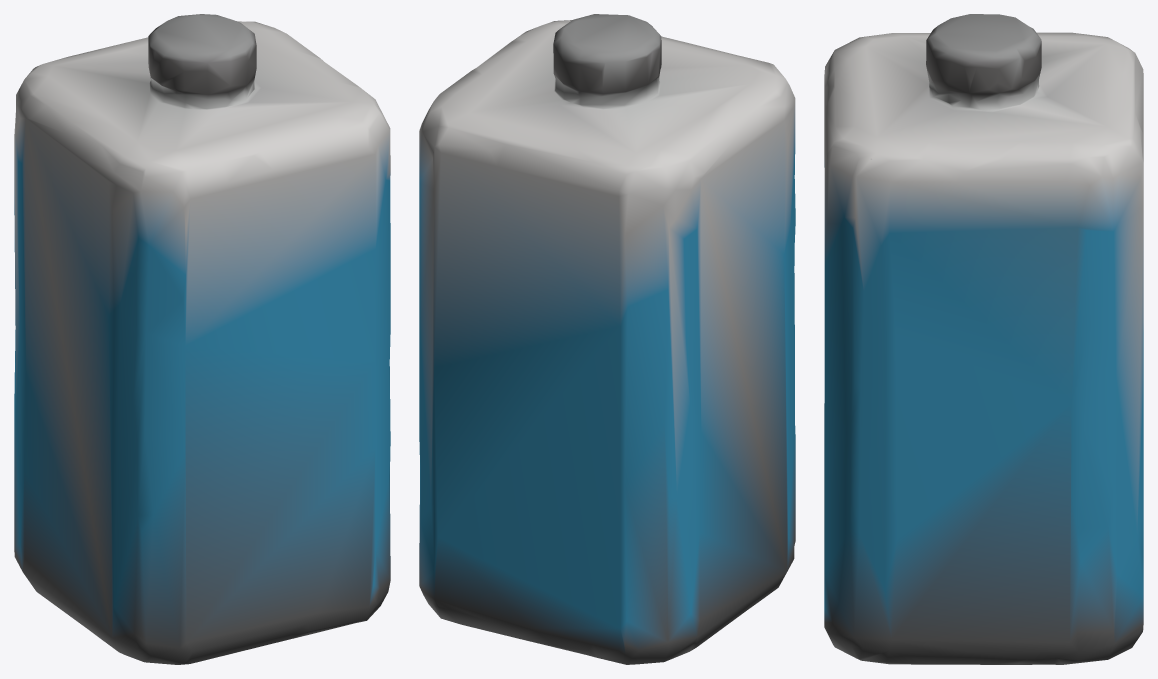
File: gen3d-battery-lod1.glb
The picture shows the model from 3 angles, left to right: view 1: azimuth 30°, elevation 25°; view 2: azimuth 150°, elevation 25°; view 3: azimuth 270°, elevation 25°; orthographic projection. The views are drawn at different scales.
Visible parts, largest first — view 1: part_0; view 2: part_0; view 3: part_0.
Boxes of the visible parts, left/top/right/bottom form: part_0: left=14, top=14, right=390, bottom=664; part_0: left=419, top=14, right=795, bottom=664; part_0: left=824, top=14, right=1143, bottom=664.
Size of the model in its own units: 0.5019 by 0.9999 by 0.502.
